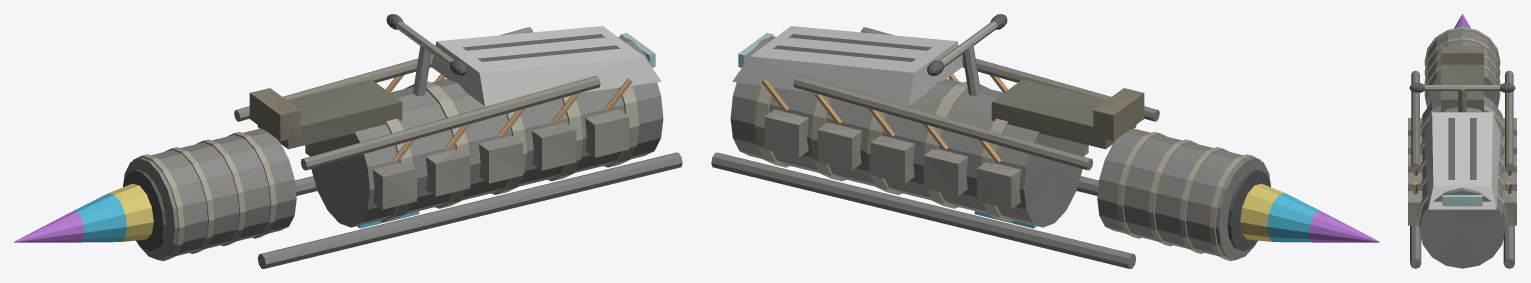
The model's file is airbike_white_full.glb.
3 views of the same model, side by side, from view 1: azimuth 30°, elevation 25°; view 2: azimuth 150°, elevation 25°; view 3: azimuth 270°, elevation 25° (orthographic). The views are drawn at different scales.
Parts seen in each view (by area): view 1: main_engine, rear_turbine, yellow_front_cover, lower_frame_-0.37, seat, upper_frame_-0.37, rear_seat_riser, flame_blue, engine_block_-0.37_2, engine_block_-0.37_3, engine_block_-0.37_1, engine_block_-0.37_4 (+18 smaller); view 2: main_engine, rear_turbine, yellow_front_cover, lower_frame_0.37, seat, upper_frame_0.37, rear_seat_riser, flame_blue, engine_block_0.37_2, engine_block_0.37_3, engine_block_0.37_1, engine_block_0.37_4 (+18 smaller); view 3: main_engine, yellow_front_cover, rear_turbine, seat, upper_frame_-0.37, upper_frame_0.37, rear_seat_riser, front_light, lower_frame_-0.37, lower_frame_0.37, handlebar, racing_stripe_0 (+24 smaller).
Part boxes in pixels (box(x1,y1,x2,y2)): main_engine: box(308, 36, 663, 227); rear_turbine: box(123, 128, 296, 260); yellow_front_cover: box(431, 26, 661, 106); lower_frame_-0.37: box(257, 152, 682, 268); seat: box(257, 79, 402, 149); upper_frame_-0.37: box(301, 76, 600, 170); rear_seat_riser: box(249, 88, 300, 141); flame_blue: box(73, 193, 126, 242); engine_block_-0.37_2: box(479, 135, 523, 183); engine_block_-0.37_3: box(532, 122, 576, 170); engine_block_-0.37_1: box(425, 149, 470, 196); engine_block_-0.37_4: box(585, 109, 629, 157); main_engine: box(730, 36, 1085, 227); rear_turbine: box(1097, 128, 1270, 260); yellow_front_cover: box(732, 26, 962, 106); lower_frame_0.37: box(711, 152, 1136, 268); seat: box(991, 79, 1136, 149); upper_frame_0.37: box(793, 76, 1092, 170); rear_seat_riser: box(1093, 88, 1144, 141); flame_blue: box(1267, 193, 1320, 242); engine_block_0.37_2: box(870, 135, 914, 183); engine_block_0.37_3: box(817, 122, 861, 170); engine_block_0.37_1: box(923, 149, 968, 196); engine_block_0.37_4: box(764, 109, 808, 157); main_engine: box(1419, 96, 1505, 268); yellow_front_cover: box(1424, 112, 1500, 209); rear_turbine: box(1425, 27, 1499, 107); seat: box(1441, 64, 1483, 111); upper_frame_-0.37: box(1411, 70, 1419, 170); upper_frame_0.37: box(1505, 70, 1513, 170); rear_seat_riser: box(1441, 46, 1483, 64); front_light: box(1442, 195, 1482, 206); lower_frame_-0.37: box(1410, 225, 1421, 268); lower_frame_0.37: box(1503, 225, 1514, 268); handlebar: box(1424, 85, 1500, 90); racing_stripe_0: box(1448, 118, 1454, 179).
Size of the model in its own units: 4.04 by 1.01 by 0.86.
